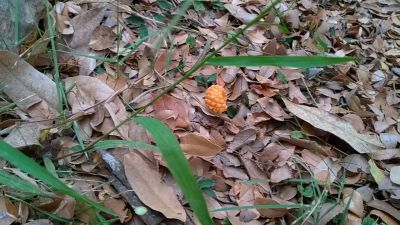eggs: (202, 82, 232, 116)
